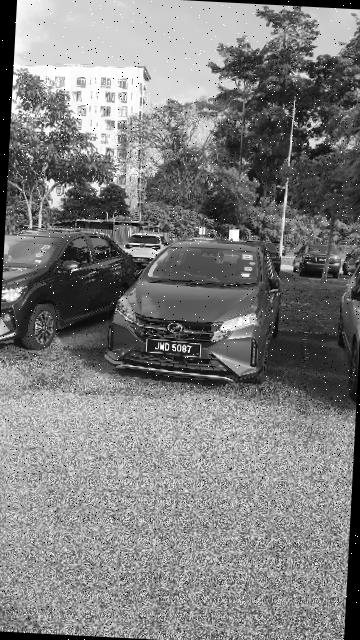License_Plate: (142, 334, 208, 363)
car: (110, 231, 296, 386), (1, 221, 146, 358)
